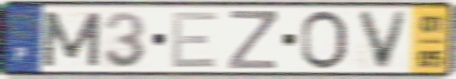3: (101, 9, 150, 70)
E: (168, 9, 220, 70)
M: (40, 10, 104, 69)
O: (298, 8, 350, 71)
V: (354, 9, 412, 72)
Z: (225, 8, 279, 71)
